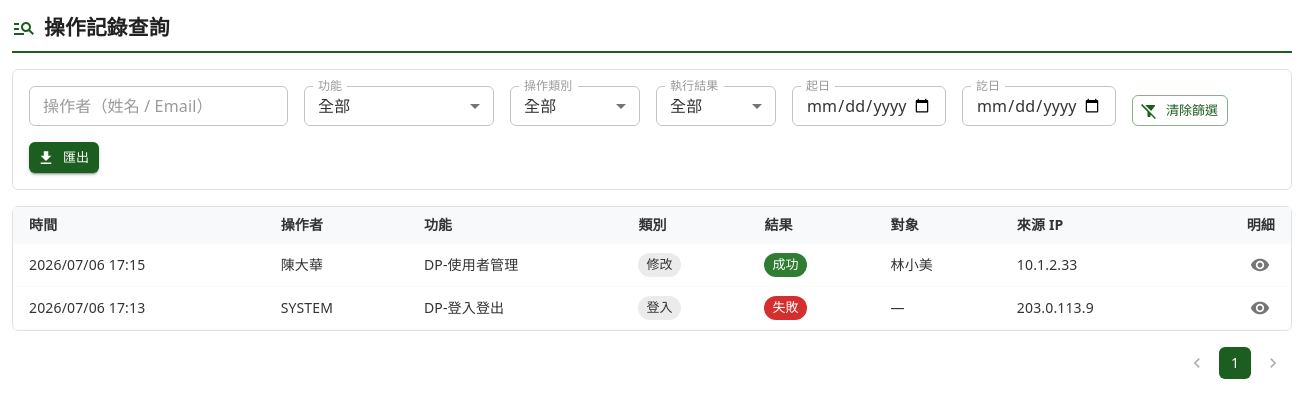
Test case: AuditPage 篩選選項來自後端（#477） › 功能下拉列出三個模組的功能，ET 不再缺席
Expected: the text "成功" is shown, [772, 255, 799, 273]
Step 1. Click the dropdown named "功能" → (334, 106), box [318, 95, 350, 117]
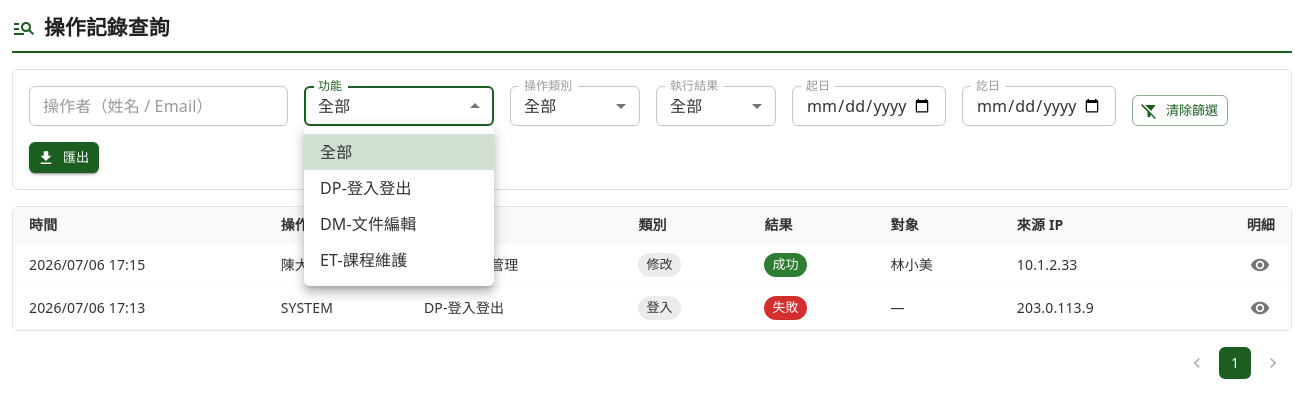
Result: the option "ET-課程維護" is shown at [320, 249, 407, 271]
Result: the option "DM-文件編輯" is shown at [320, 213, 416, 235]
Result: the option "DP-登入登出" is shown at [320, 177, 412, 199]
